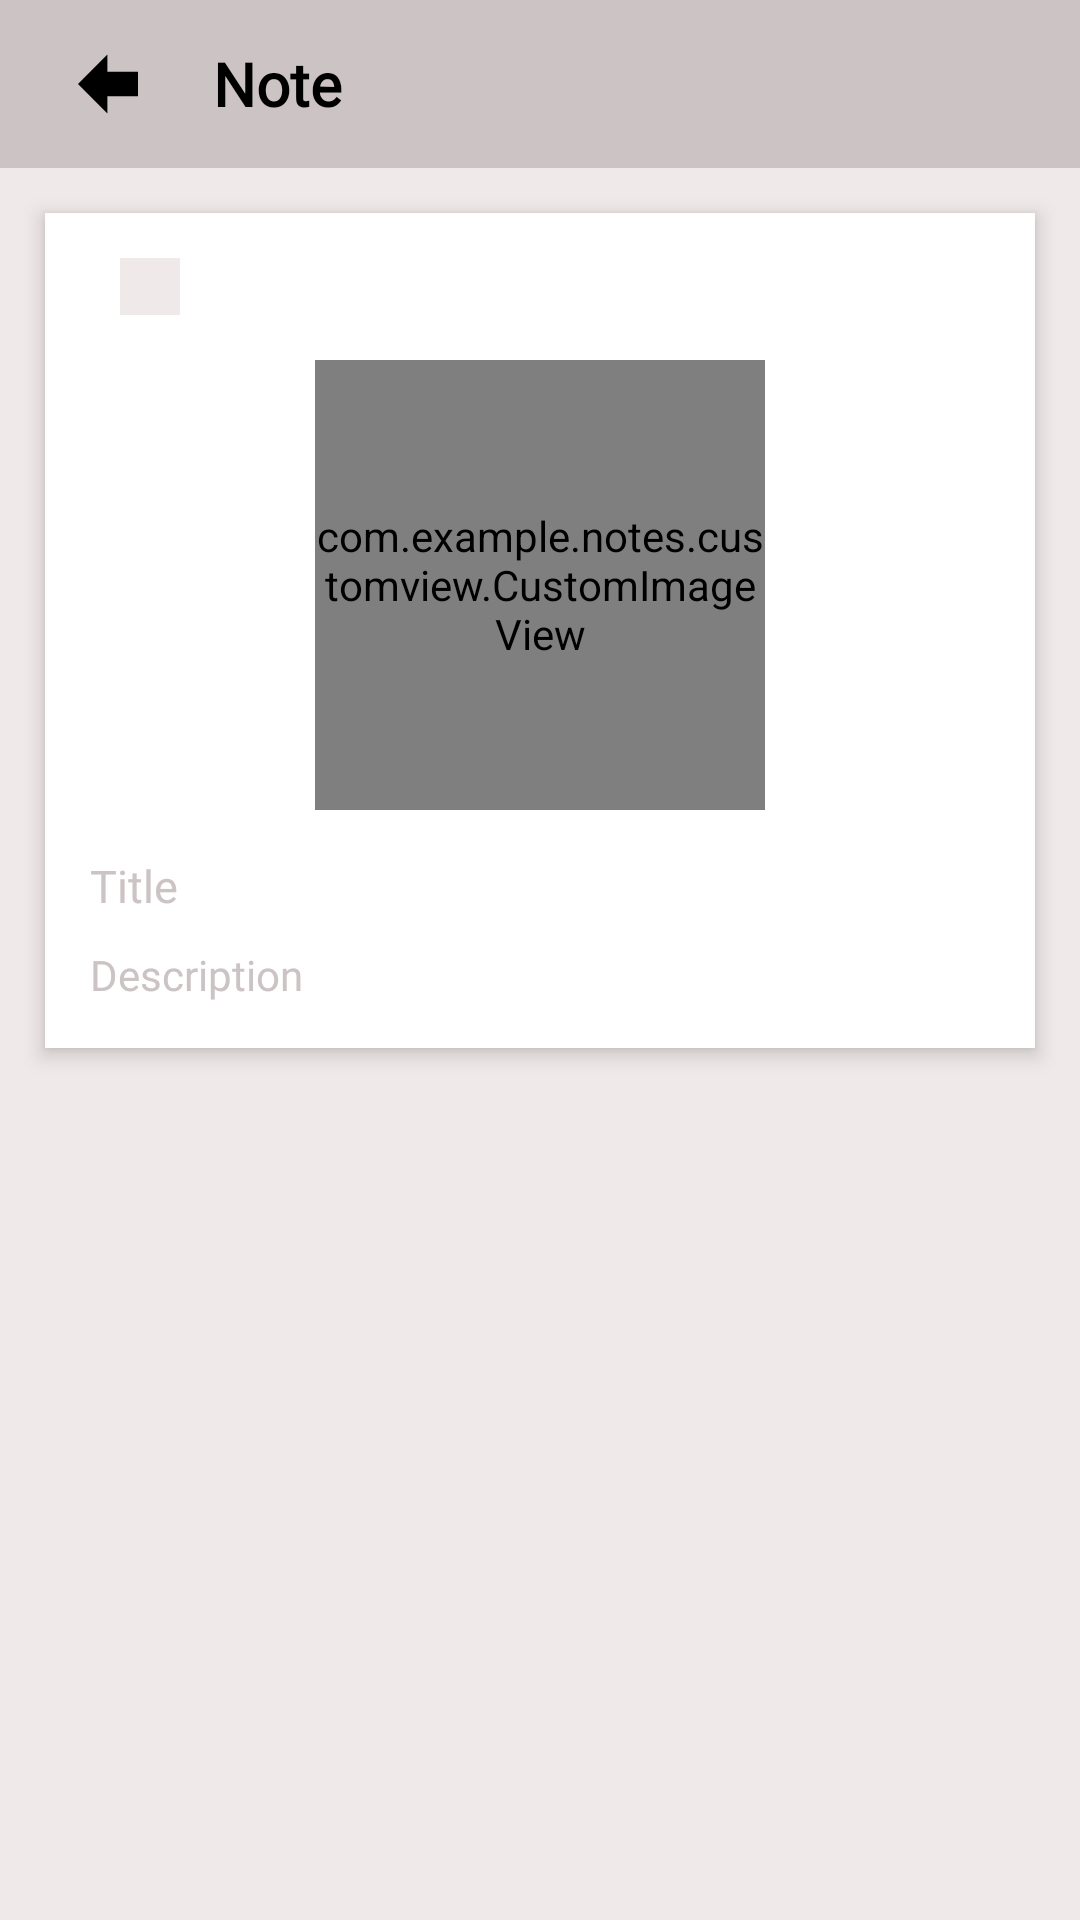

Locate icon controls on the screen. Image size 1080px x 1920px, boxes as [x1, y1, x2, y2].
back: [78, 54, 138, 114]
